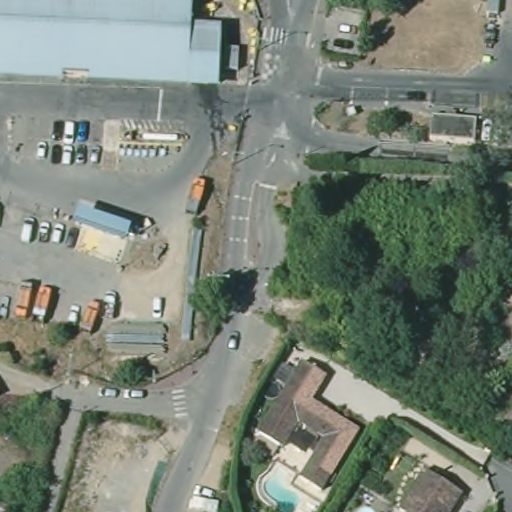pool: (262, 471, 302, 511)
